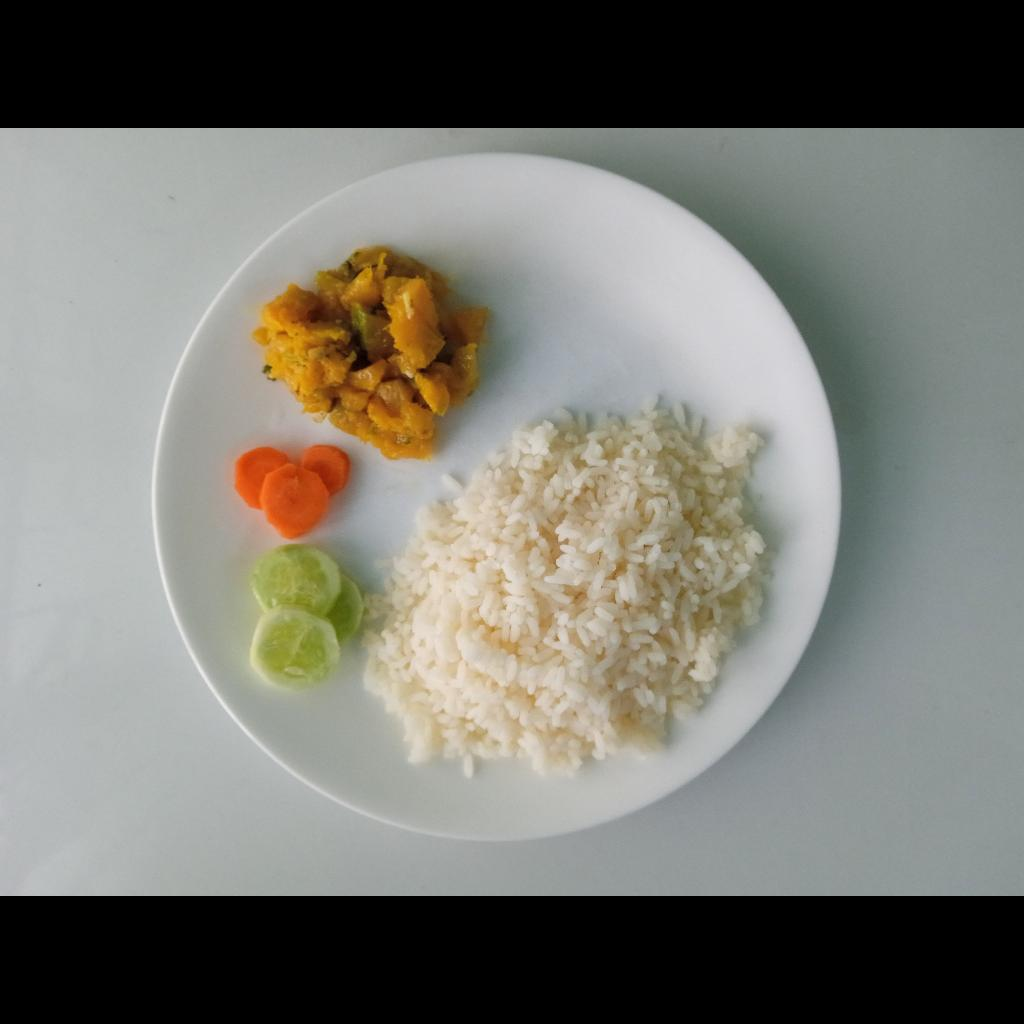carrot: (234, 448, 347, 538)
cucumber: (247, 545, 363, 688)
kumra-vaji: (256, 252, 481, 456)
rice: (384, 392, 770, 771)
